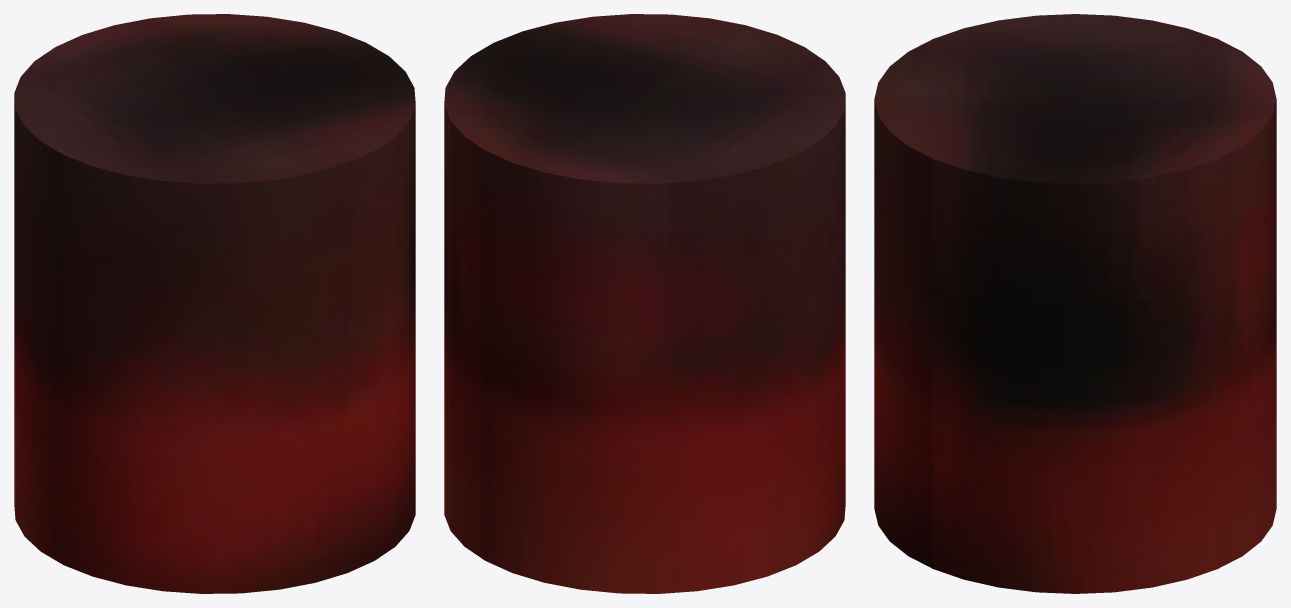
Rendered from cashbox_door__door_lock.glb.
The picture shows the model from 3 angles, left to right: view 1: azimuth 30°, elevation 25°; view 2: azimuth 150°, elevation 25°; view 3: azimuth 270°, elevation 25°; orthographic projection.
Visible parts, largest first — view 1: geometry_0; view 2: geometry_0; view 3: geometry_0.
Part boxes in pixels (<box>): geometry_0: <box>14,14,415,593</box>; geometry_0: <box>444,14,845,593</box>; geometry_0: <box>874,14,1276,593</box>.
Bounding box in the file's own units: 0.016 × 0.018 × 0.016.
1 material, 1 textured.
